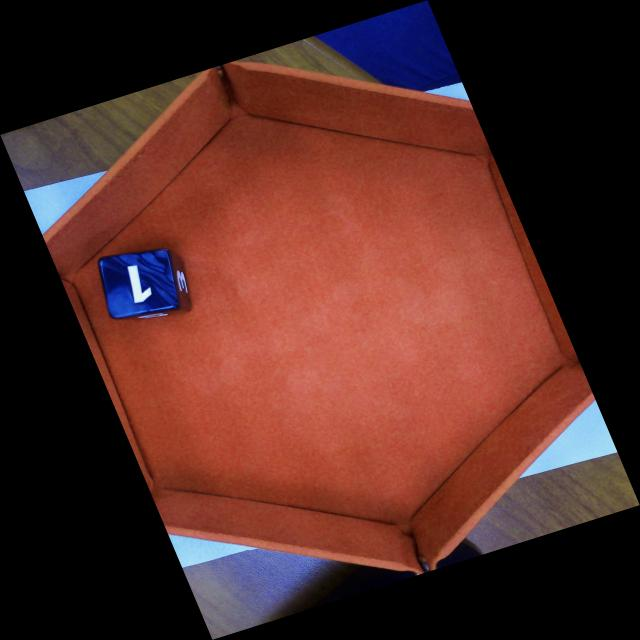dice: (98, 246, 182, 320)
